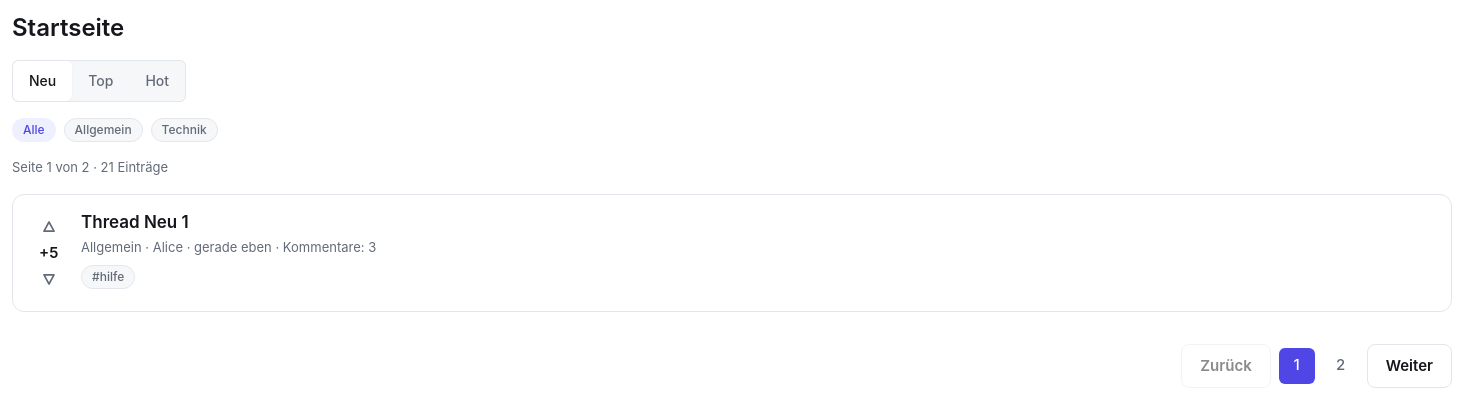
forum feed › filters by a tag chip and clears the filter again
expect the link "Thread Neu 1" is shown: met, box [81,210,189,234]
What coordinates should you click on to do the following:
click the button "#hilfe"
I would click on:
 (108, 277)
Its box is [81,265,135,289].
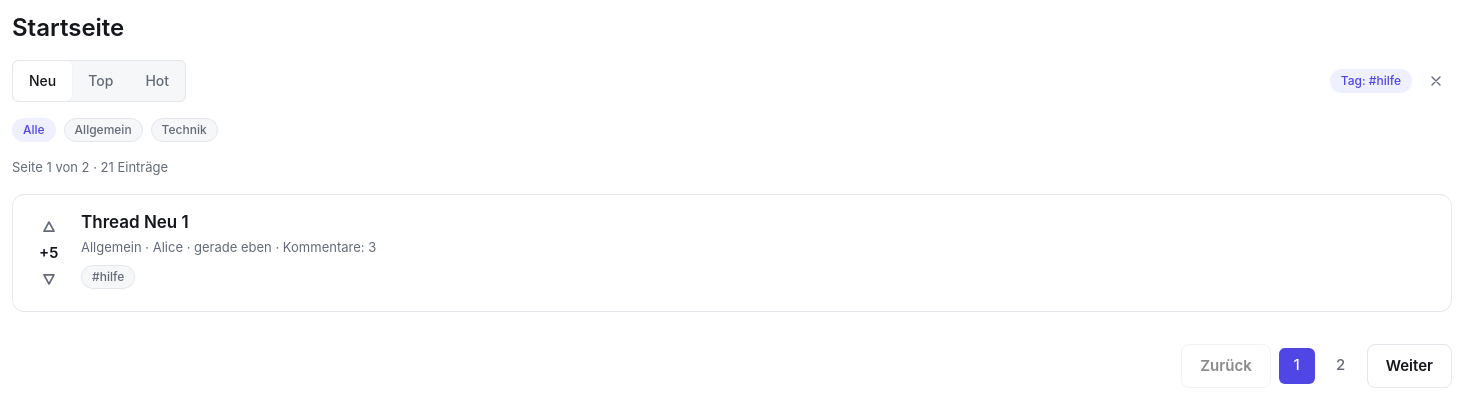
expect the text "Tag: #hilfe" is shown: met, box [1330,69,1412,93]
What coordinates should you click on to do the following:
click the button named "Filter „hilfe“ entfernen"
I would click on:
 (1436, 81)
Its box is [1420,65,1452,97].
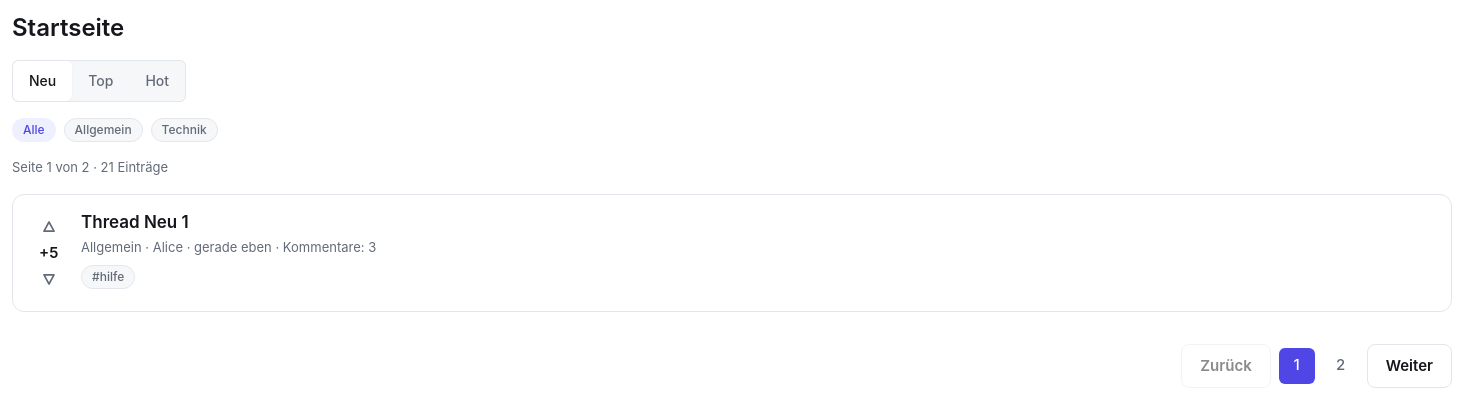
expect the text "Tag: #hilfe" is gone: met
